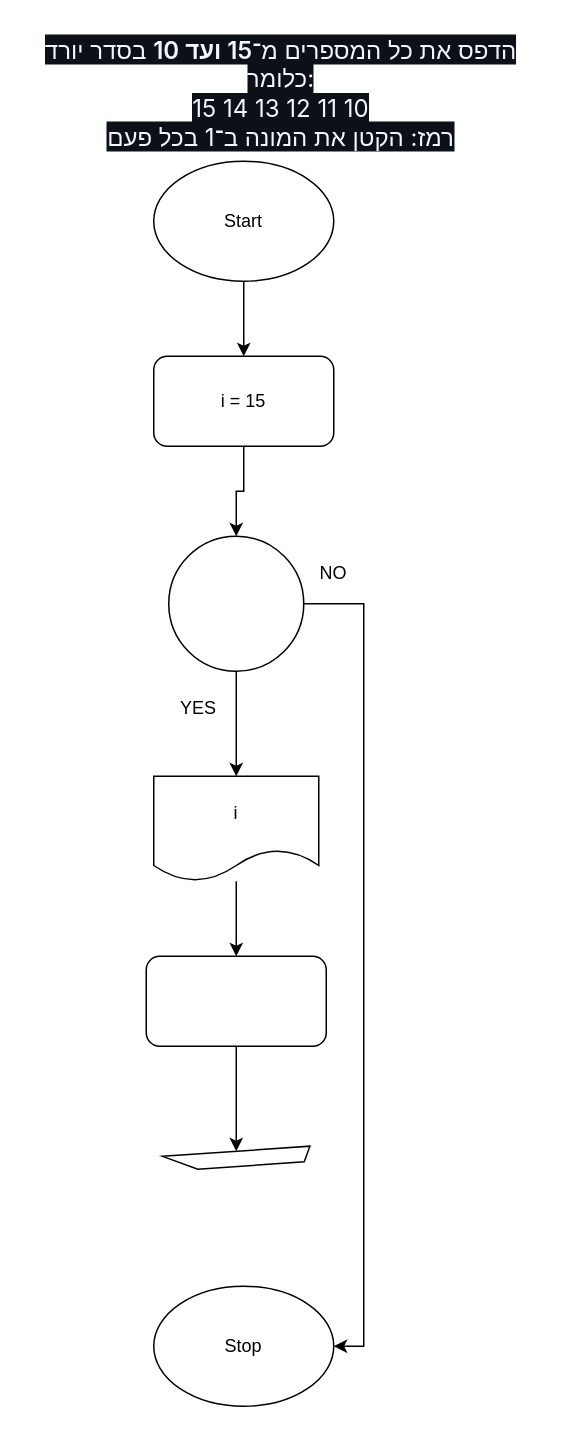
Some shapes in this 561 by 1433 pixel diagram are drawn without their labels. Each missing label, with the box of its shape:
i -= 1: (145, 955, 326, 1046)
i >= 10: (167, 535, 304, 671)
